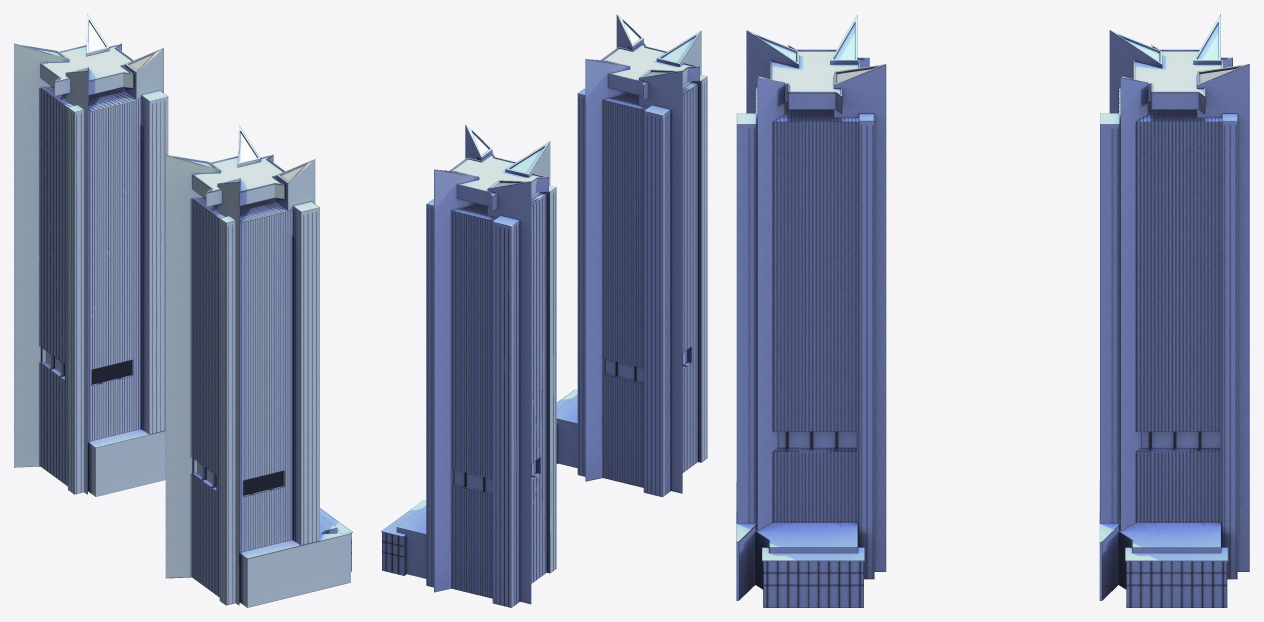
File: 1515_roughness_transmission_bfculling_raytrace.glb
The picture shows the model from 3 angles, left to right: view 1: azimuth 30°, elevation 25°; view 2: azimuth 150°, elevation 25°; view 3: azimuth 270°, elevation 25°; orthographic projection. The views are drawn at different scales.
Visible parts, largest first — view 1: 1515_6.obj, 1515_6.obj.001; view 2: 1515_6.obj.001, 1515_6.obj; view 3: 1515_6.obj, 1515_6.obj.001.
Part boxes in pixels (left/top/right/bottom): 1515_6.obj: left=165, top=125, right=352, bottom=607; 1515_6.obj.001: left=14, top=14, right=168, bottom=496; 1515_6.obj.001: left=381, top=125, right=556, bottom=607; 1515_6.obj: left=556, top=14, right=707, bottom=497; 1515_6.obj: left=736, top=15, right=886, bottom=607; 1515_6.obj.001: left=1099, top=14, right=1249, bottom=607.
Bounding box in the file's own units: 13.62 × 37.42 × 34.27.
2 materials, 2 textured.
